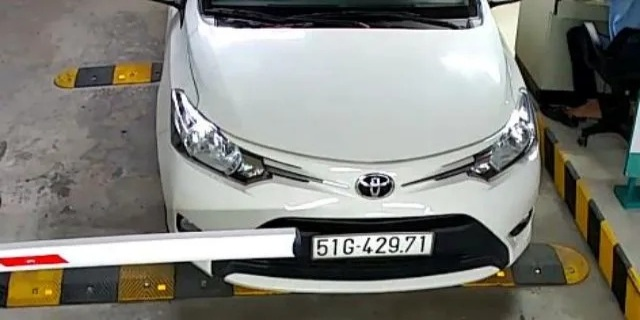bien_so: (312, 233, 434, 257)
